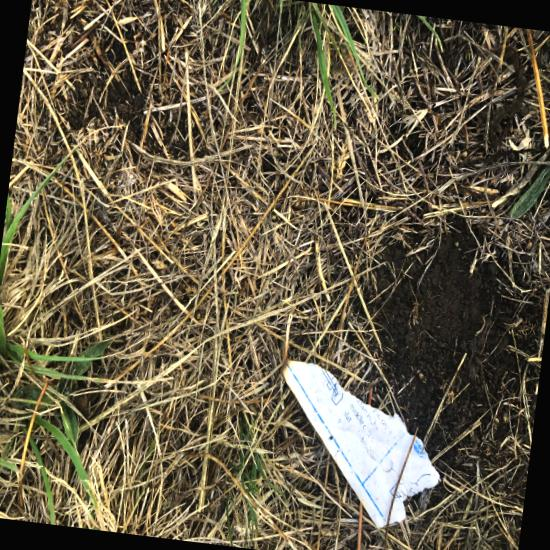Clear plastic bottle: (59, 127, 130, 178), (4, 157, 44, 225)
